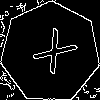X: (25, 27, 79, 84)
